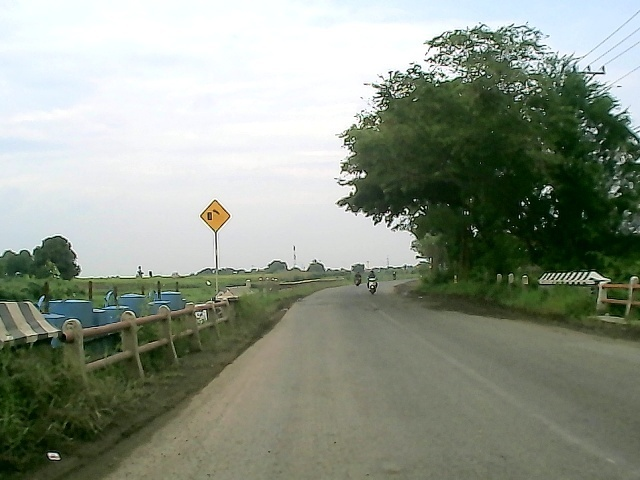Peringatan tepi air: (196, 197, 233, 233)
